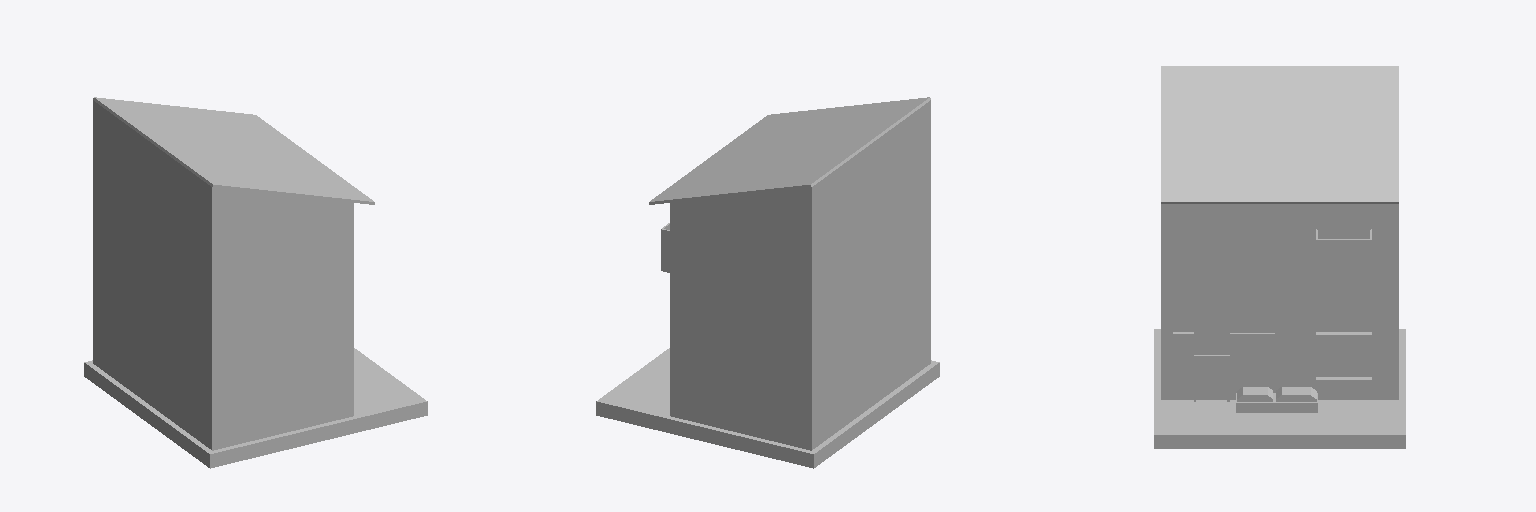
File: building3 8x8x0.5.obj
The picture shows the model from 3 angles: view 1: azimuth 30°, elevation 25°; view 2: azimuth 150°, elevation 25°; view 3: azimuth 270°, elevation 25°; orthographic projection.
Visible parts, largest first — view 1: Cube; view 2: Cube; view 3: Cube.
Boxes of the visible parts, x1=… form: Cube: x1=84, y1=97, x2=427, y2=468; Cube: x1=596, y1=97, x2=939, y2=468; Cube: x1=1154, y1=66, x2=1405, y2=448.
Size of the model in its own units: 16 by 19.69 by 16.